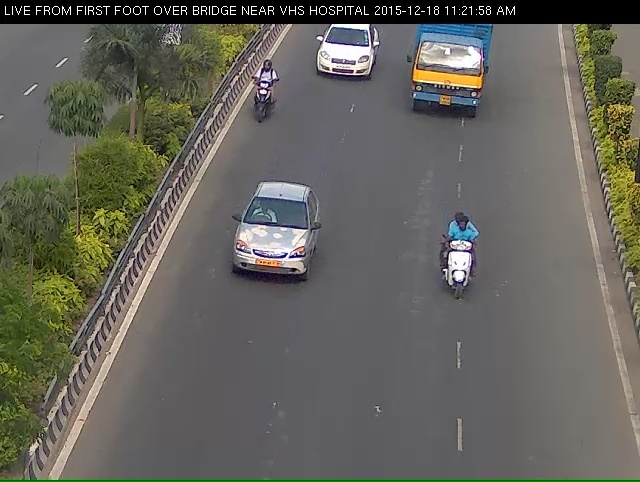Car: (223, 197, 313, 316), (405, 21, 490, 134), (307, 24, 377, 97)
Person: (436, 220, 487, 316), (240, 64, 280, 136)
